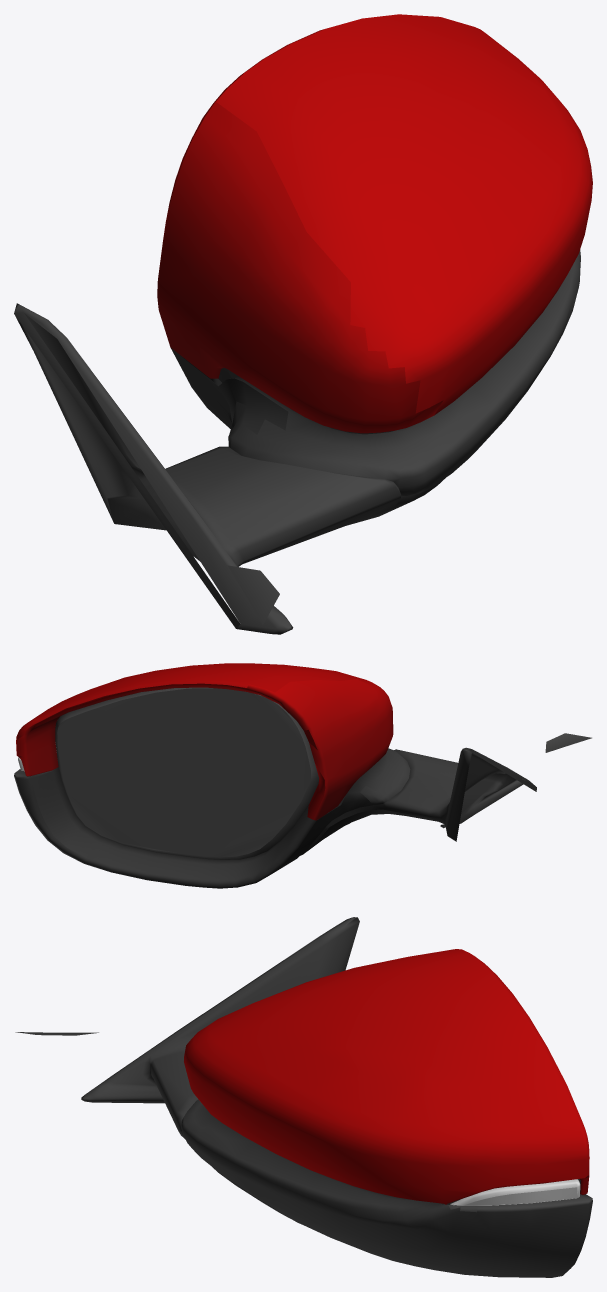
File: sidemirror_l.glb
3 views of the same model, one above another, from view 1: azimuth 30°, elevation 25°; view 2: azimuth 150°, elevation 25°; view 3: azimuth 270°, elevation 25° (orthographic). The views are drawn at different scales.
Visible parts, largest first — view 1: Paint_Geo_lodA_Ferrari_PurosangueRewardRecycled_2023Paint_Ma, Coloured_Geo_lodA_Ferrari_PurosangueRewardRecycled_2023Colo.; view 2: Coloured_Geo_lodA_Ferrari_PurosangueRewardRecycled_2023Colo., Paint_Geo_lodA_Ferrari_PurosangueRewardRecycled_2023Paint_Ma; view 3: Paint_Geo_lodA_Ferrari_PurosangueRewardRecycled_2023Paint_Ma, Coloured_Geo_lodA_Ferrari_PurosangueRewardRecycled_2023Colo., Light_Geo_lodA_Ferrari_PurosangueRewardRecycled_2023LightA_M.
Part boxes in pixels (left/top/right/bottom): Paint_Geo_lodA_Ferrari_PurosangueRewardRecycled_2023Paint_Ma: left=157, top=14, right=592, bottom=433; Coloured_Geo_lodA_Ferrari_PurosangueRewardRecycled_2023Colo.: left=14, top=250, right=580, bottom=634; Coloured_Geo_lodA_Ferrari_PurosangueRewardRecycled_2023Colo.: left=14, top=687, right=591, bottom=888; Paint_Geo_lodA_Ferrari_PurosangueRewardRecycled_2023Paint_Ma: left=16, top=663, right=393, bottom=820; Paint_Geo_lodA_Ferrari_PurosangueRewardRecycled_2023Paint_Ma: left=184, top=949, right=589, bottom=1204; Coloured_Geo_lodA_Ferrari_PurosangueRewardRecycled_2023Colo.: left=15, top=917, right=592, bottom=1277; Light_Geo_lodA_Ferrari_PurosangueRewardRecycled_2023LightA_M: left=447, top=1179, right=580, bottom=1205.
Bounding box in the file's own units: 0.0031 × 0.00167 × 0.00328.
4 materials, 1 textured.
